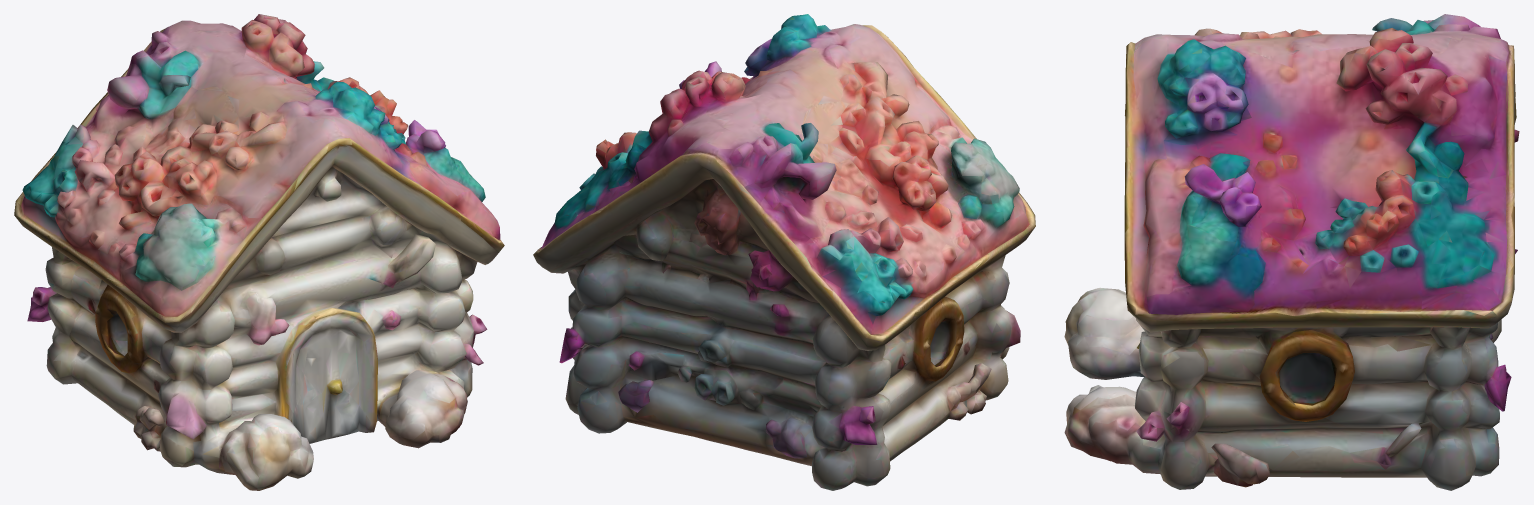
The model's file is shelter.glb.
The picture shows the model from 3 angles, left to right: view 1: azimuth 30°, elevation 25°; view 2: azimuth 150°, elevation 25°; view 3: azimuth 270°, elevation 25°; orthographic projection. The views are drawn at different scales.
Parts seen in each view (by area): view 1: low; view 2: low; view 3: low.
Boxes of the visible parts, box(x1,y1,x2,y2) form: low: box(14, 14, 504, 490); low: box(533, 14, 1035, 490); low: box(1064, 14, 1519, 490).
Size of the model in its own units: 2.08 by 2 by 2.06.
Materials: 1 (1 with a texture image).
